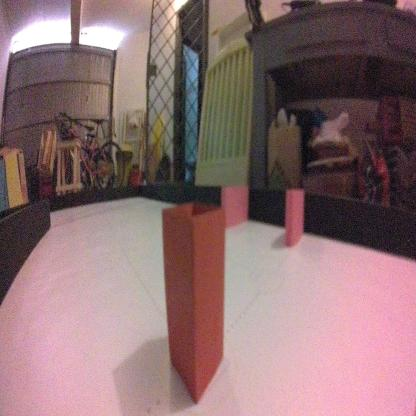magenta: (219, 179, 252, 224), (288, 186, 306, 247)
red: (162, 197, 229, 406)
